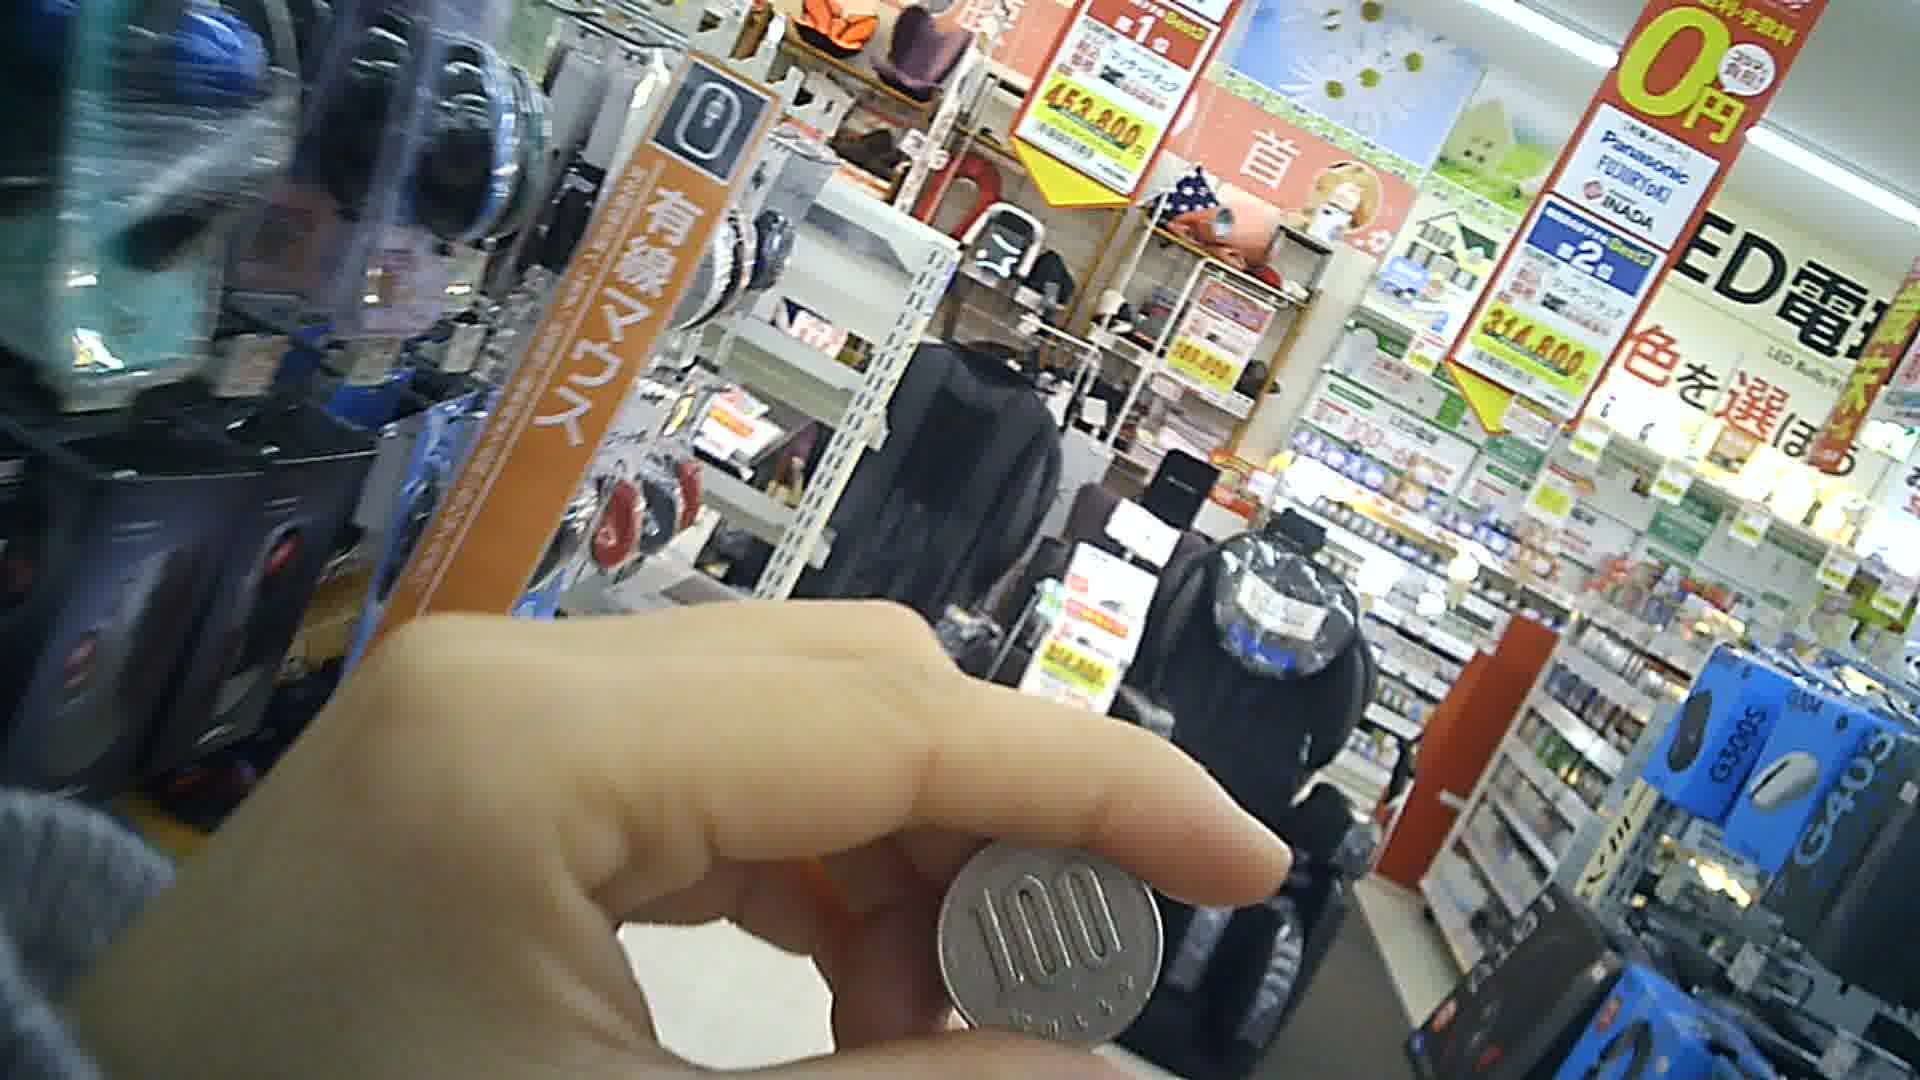100 Yen: (922, 824, 1174, 1062)
